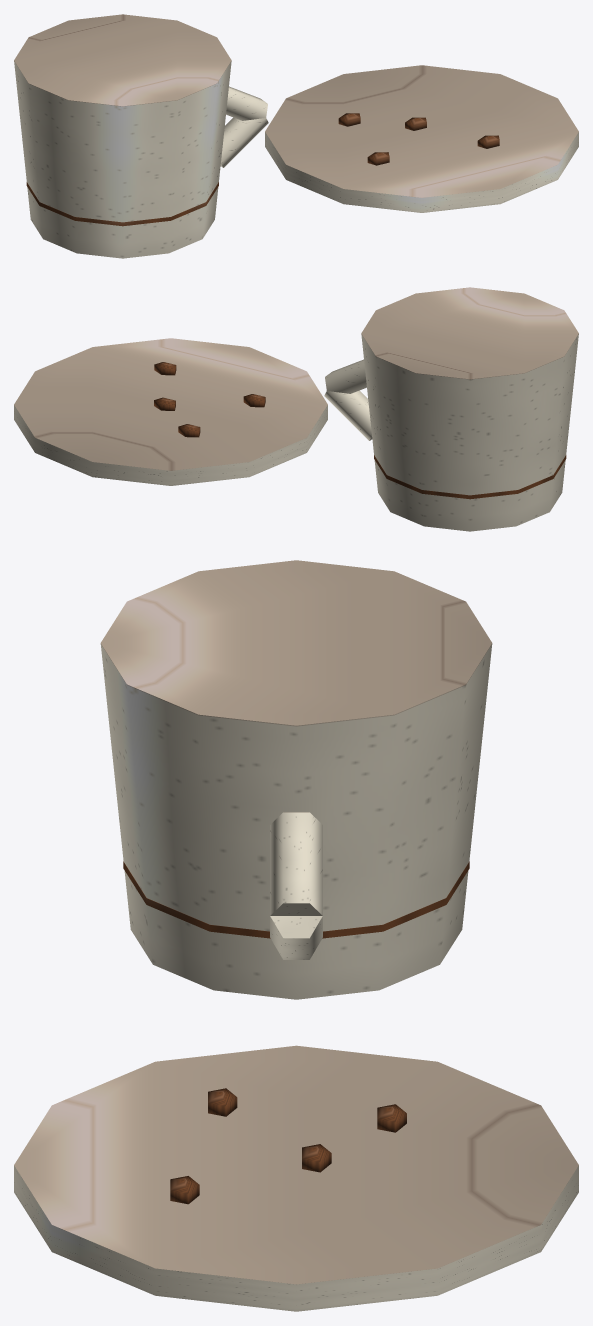
The model's file is dish-coffee-done.glb.
3 views of the same model, one above another, from view 1: azimuth 30°, elevation 25°; view 2: azimuth 150°, elevation 25°; view 3: azimuth 270°, elevation 25° (orthographic). The views are drawn at different scales.
Parts seen in each view (by area): view 1: dish-coffee-done; view 2: dish-coffee-done; view 3: dish-coffee-done.
Part boxes in pixels (bbox=[...]): dish-coffee-done: bbox=[14, 14, 578, 258]; dish-coffee-done: bbox=[14, 287, 578, 531]; dish-coffee-done: bbox=[14, 560, 578, 1311].
Size of the model in its own units: 0.0292 by 0.0084 by 0.015.
1 material, 1 textured.
